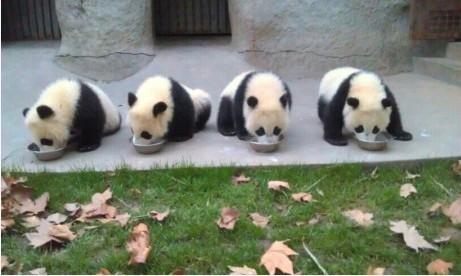panda: (314, 61, 413, 151), (23, 76, 121, 161), (215, 67, 292, 154), (128, 71, 209, 153)
